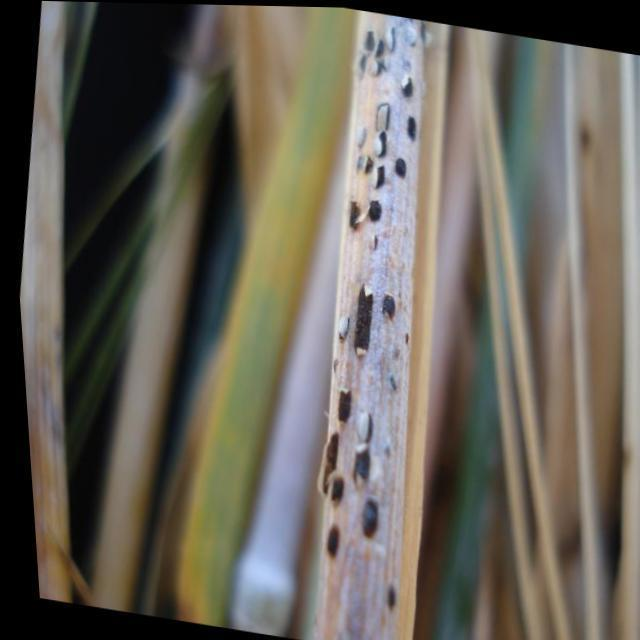Stem Rust: (282, 8, 447, 639)
